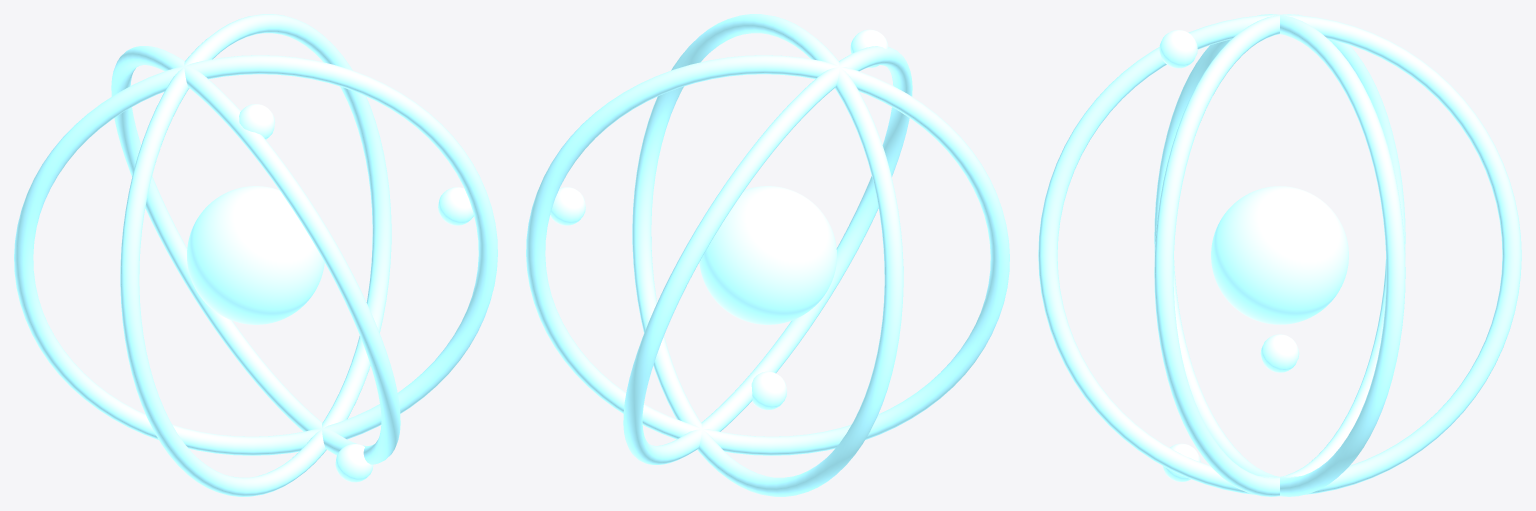
Rendered from react.glb.
3 views of the same model, side by side, from view 1: azimuth 30°, elevation 25°; view 2: azimuth 150°, elevation 25°; view 3: azimuth 270°, elevation 25° (orthographic).
Visible parts, largest first — view 1: Torus.002, Torus.001, Torus, Sphere, Sphere.003, Sphere.001, Sphere.002; view 2: Torus.001, Torus.002, Torus, Sphere, Sphere.003, Sphere.001, Sphere.002; view 3: Torus, Sphere, Torus.001, Torus.002, Sphere.002, Sphere.001.
Boxes of the visible parts, x1=… form: Torus.002: x1=14, y1=55, x2=497, y2=455; Torus.001: x1=120, y1=14, x2=391, y2=496; Torus: x1=111, y1=46, x2=400, y2=464; Sphere: x1=187, y1=186, x2=324, y2=324; Sphere.003: x1=335, y1=444, x2=373, y2=482; Sphere.001: x1=438, y1=187, x2=473, y2=225; Sphere.002: x1=239, y1=104, x2=274, y2=139; Torus.001: x1=526, y1=55, x2=1009, y2=455; Torus.002: x1=632, y1=14, x2=903, y2=496; Torus: x1=623, y1=46, x2=912, y2=464; Sphere: x1=699, y1=186, x2=836, y2=324; Sphere.003: x1=751, y1=371, x2=786, y2=410; Sphere.001: x1=550, y1=187, x2=585, y2=225; Sphere.002: x1=850, y1=29, x2=888, y2=67; Torus: x1=1038, y1=14, x2=1521, y2=494; Sphere: x1=1211, y1=186, x2=1348, y2=324; Torus.001: x1=1154, y1=14, x2=1405, y2=496; Torus.002: x1=1154, y1=14, x2=1405, y2=496; Sphere.002: x1=1159, y1=30, x2=1197, y2=68; Sphere.001: x1=1260, y1=334, x2=1299, y2=372.
Bounding box in the file's own units: 1.2 × 1.23 × 1.25.
